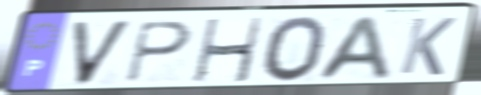A: (311, 13, 394, 83)
H: (190, 16, 265, 85)
K: (396, 15, 459, 78)
O: (260, 14, 330, 84)
P: (123, 20, 194, 85)
V: (68, 18, 137, 88)
